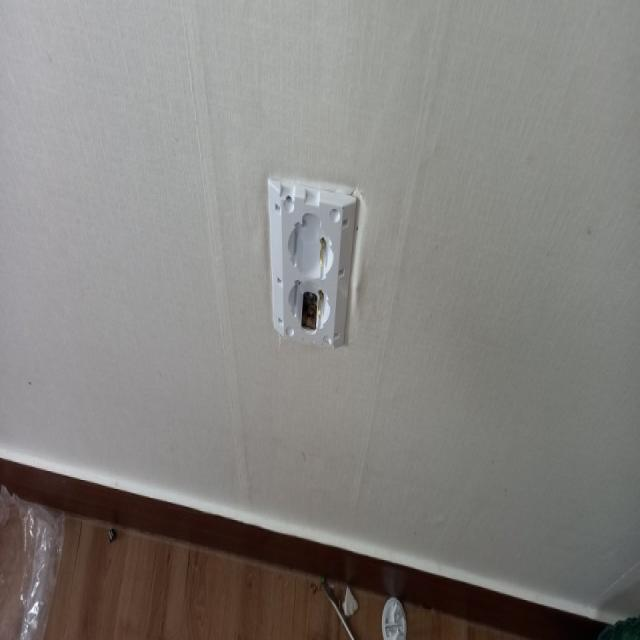typeb: (257, 145, 382, 440)
